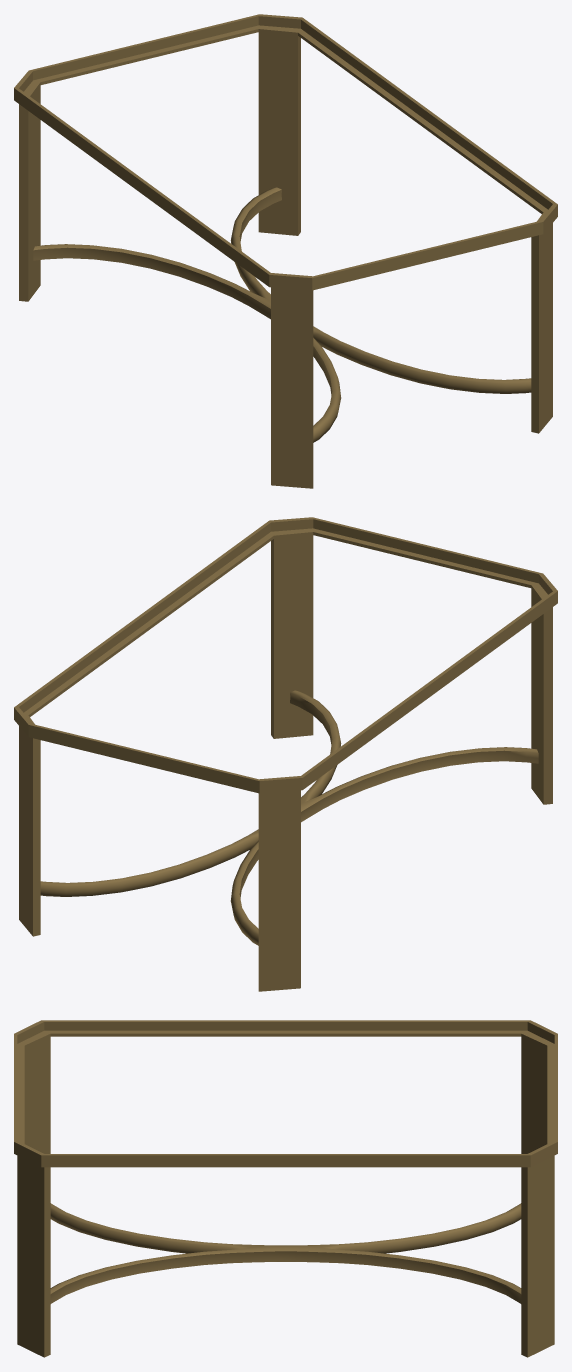
Rendered from coffeeTable_lp.fbx.
The picture shows the model from 3 angles, top to bottom: view 1: azimuth 30°, elevation 25°; view 2: azimuth 150°, elevation 25°; view 3: azimuth 270°, elevation 25°; orthographic projection. The views are drawn at different scales.
Parts seen in each view (by area): view 1: coffeeTable_fram_lp; view 2: coffeeTable_fram_lp; view 3: coffeeTable_fram_lp.
Boxes of the visible parts, left/top/right/bottom form: coffeeTable_fram_lp: left=14, top=14, right=557, bottom=488; coffeeTable_fram_lp: left=14, top=517, right=557, bottom=991; coffeeTable_fram_lp: left=14, top=1020, right=557, bottom=1357.
Bounding box in the file's own units: 0.6499 × 0.4572 × 1.11.
